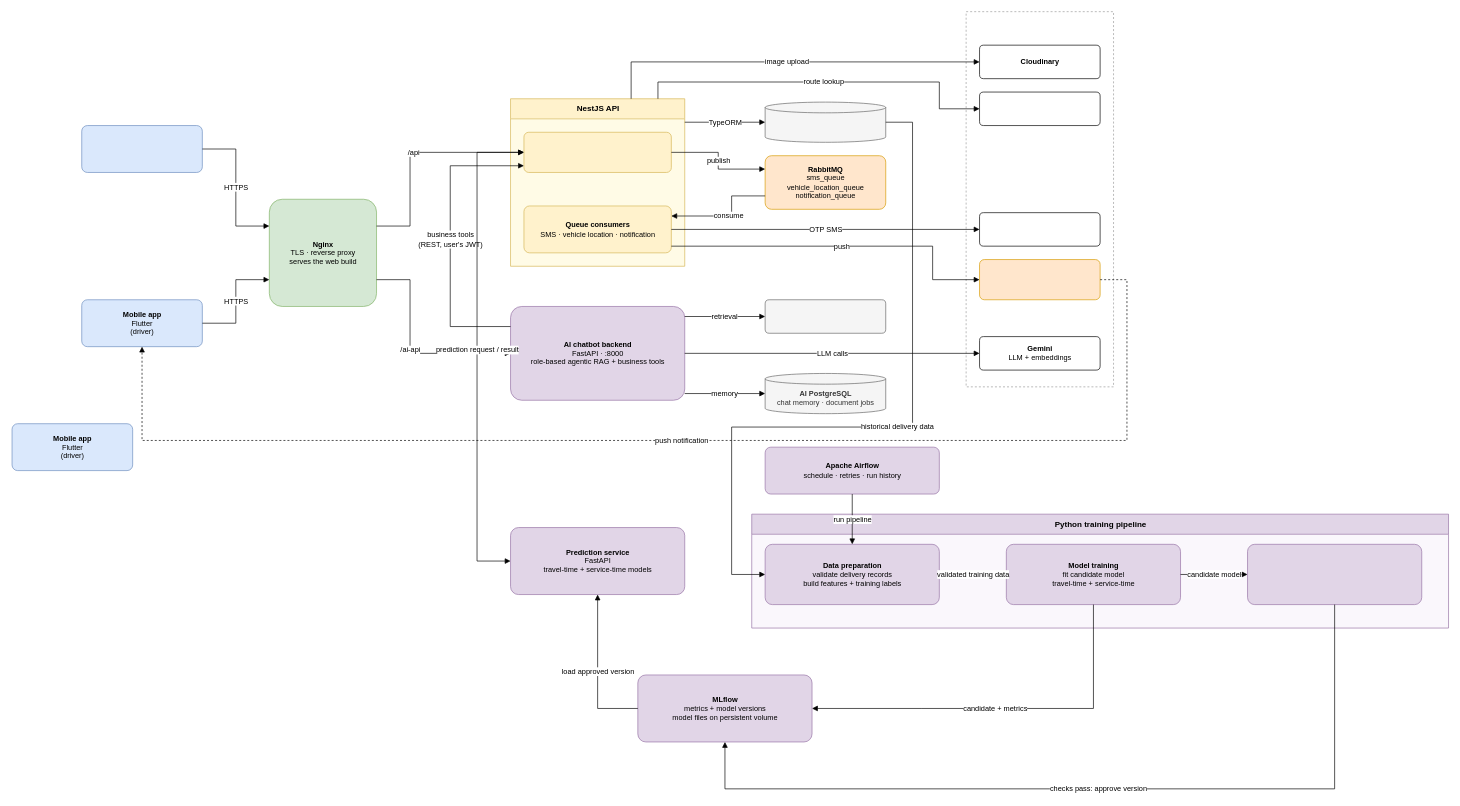
This 1460x806 diagram has some shape labels left out. Each missing label, with the centre of its shape:
FCM Notification: (1039,279)
Model evaluation compare with current model approve only if checks pass: (1334,574)
OSRM: (1039,108)
PostgreSQL business data: (825,121)
Qdrant: (825,316)
REST API /api/*: (597,152)
smsapi.lk SMS gateway: (1039,229)
Web app (dispatcher & store manager): (141,148)
